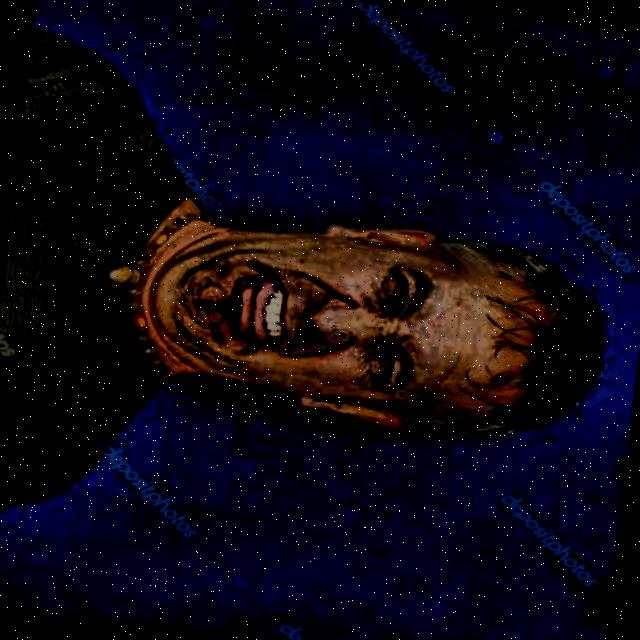disgust: (125, 173, 634, 465)
